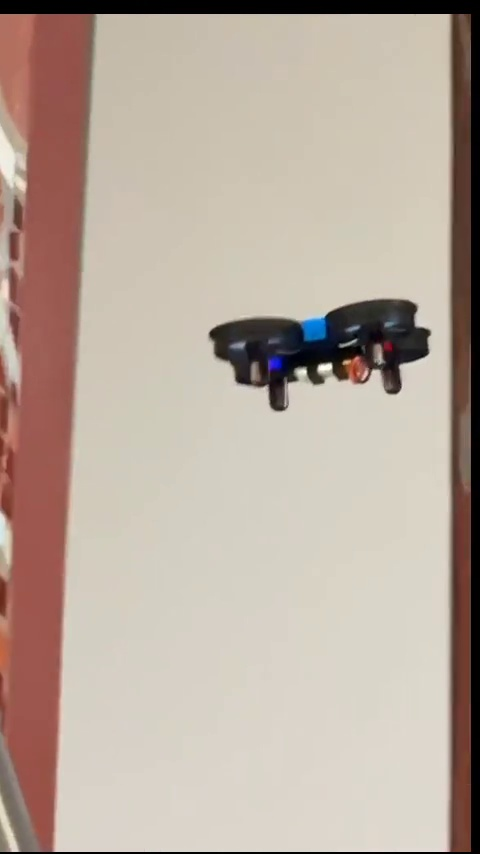drone: (194, 299, 432, 406)
